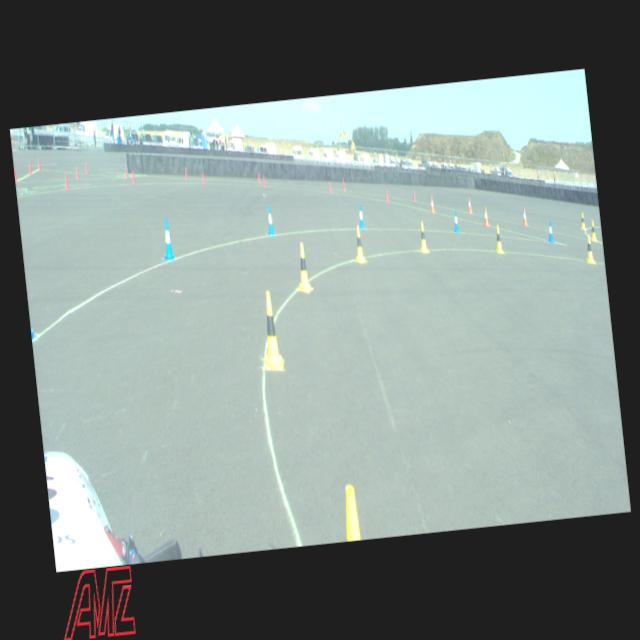blue_cone: (160, 217, 174, 260), (264, 204, 274, 234), (356, 204, 364, 228), (546, 220, 554, 242), (452, 210, 459, 233)
orange_cone: (482, 206, 489, 226), (429, 195, 435, 212), (522, 208, 528, 225), (467, 197, 472, 213)
yellow_cone: (257, 290, 284, 371), (341, 484, 361, 542), (295, 241, 311, 293), (353, 225, 365, 262), (417, 222, 428, 253), (584, 234, 594, 264), (493, 224, 502, 253), (589, 220, 597, 240), (579, 212, 585, 229)
